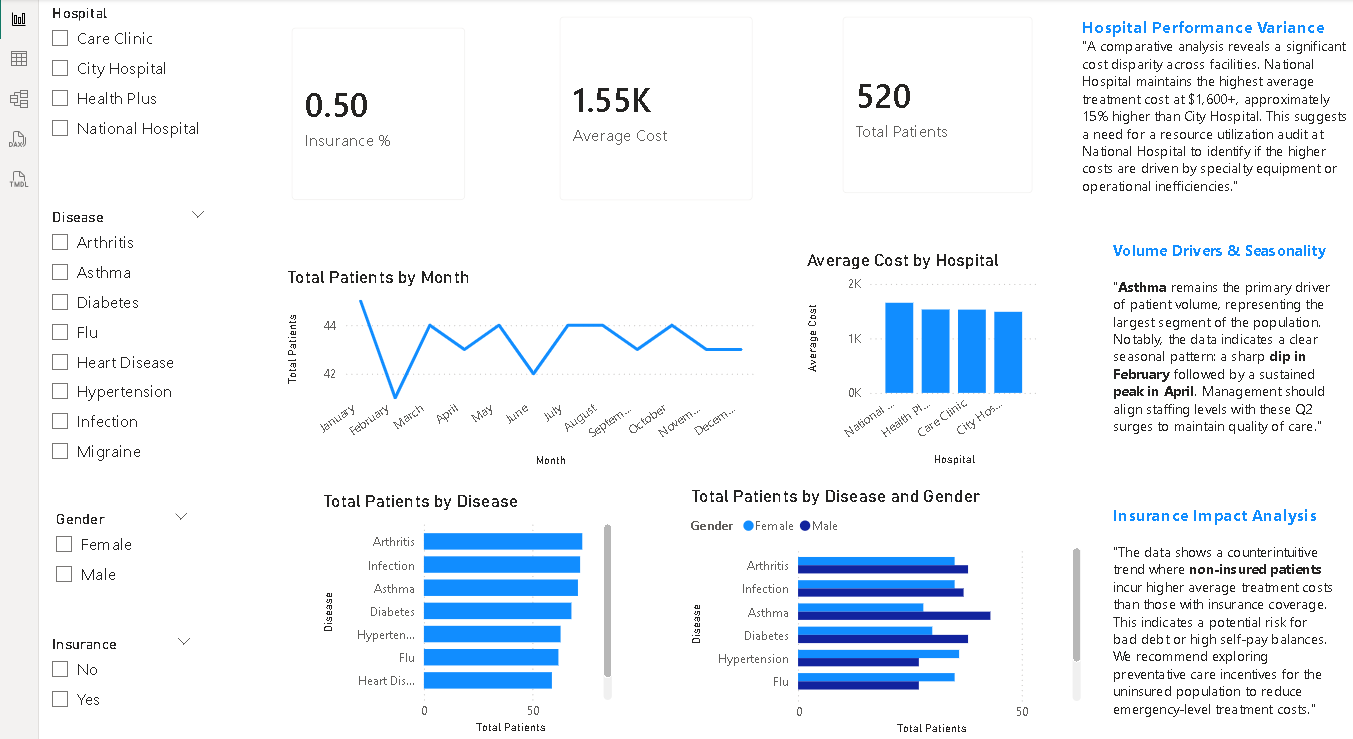

Layout of this report page (visuals, bound fields, positions):
{"tool":"powerbi","page":{"name":"Healthcare Dashboard","canvas":[1280,720],"ordinal":0},"visuals":[{"type":"cardVisual","fields":{"Data":["healthcare_data_520_rows.Insurance %"]},"box":[228.6,10.7,203.3,202.3],"z":0},{"type":"cardVisual","fields":{"Data":["healthcare_data_520_rows.Average Cost"]},"box":[489.2,0,222.7,213],"z":1000},{"type":"columnChart","fields":{"Category":["healthcare_data_520_rows.Hospital"],"Y":["healthcare_data_520_rows.Average Cost"]},"box":[742.1,244.1,234.4,214],"z":2000},{"type":"cardVisual","fields":{"Data":["healthcare_data_520_rows.Total Patients"]},"box":[764.5,0,219.8,206.2],"z":3000},{"type":"lineChart","fields":{"Category":["healthcare_data_520_rows.Visit_Date.Variation.Date Hierarchy.Month"],"Y":["healthcare_data_520_rows.Total Patients"]},"box":[236.4,260.7,464.9,198.4],"z":4000},{"type":"barChart","fields":{"Category":["healthcare_data_520_rows.Disease"],"Y":["healthcare_data_520_rows.Total Patients"]},"box":[271.4,478.5,290.8,240.2],"z":5000},{"type":"clusteredBarChart","fields":{"Category":["healthcare_data_520_rows.Disease"],"Series":["healthcare_data_520_rows.Gender"],"Y":["healthcare_data_520_rows.Total Patients"]},"box":[629.3,473.7,389.1,246.1],"z":6000},{"type":"slicer","fields":{"Values":["healthcare_data_520_rows.Hospital"]},"box":[0,0,174.1,153.7],"z":7000},{"type":"slicer","fields":{"Values":["healthcare_data_520_rows.Disease"]},"box":[0,198.4,174.1,259.7],"z":8000},{"type":"slicer","fields":{"Values":["healthcare_data_520_rows.Gender"]},"box":[3.9,492.2,153.7,93.4],"z":9000},{"type":"slicer","fields":{"Values":["healthcare_data_520_rows.Insurance"]},"box":[0,613.7,160.5,105],"z":10000},{"type":"textbox","box":[1009.6,10.7,270.4,202.3],"z":11000},{"type":"textbox","box":[1039.8,228.6,225.7,229.5],"z":12000},{"type":"textbox","box":[1039.8,485.3,225.7,234.4],"z":13000}]}

Visuals, with their boxes on the page's 1280x720 design canvas (x1, y1, x2, y2). These are canvas units, not pixel positions in the 1353x739 screenshot, which may show the page scaled, cropped or inside an application window:
cardVisual - healthcare_data_520_rows.Insurance %: 229,11,432,213
cardVisual - healthcare_data_520_rows.Average Cost: 489,0,712,213
columnChart - healthcare_data_520_rows.Hospital x healthcare_data_520_rows.Average Cost: 742,244,976,458
cardVisual - healthcare_data_520_rows.Total Patients: 764,0,984,206
lineChart - healthcare_data_520_rows.Visit_Date.Variation.Date Hierarchy.Month x healthcare_data_520_rows.Total Patients: 236,261,701,459
barChart - healthcare_data_520_rows.Disease x healthcare_data_520_rows.Total Patients: 271,478,562,719
clusteredBarChart - healthcare_data_520_rows.Disease x healthcare_data_520_rows.Gender: 629,474,1018,720
slicer - healthcare_data_520_rows.Hospital: 0,0,174,154
slicer - healthcare_data_520_rows.Disease: 0,198,174,458
slicer - healthcare_data_520_rows.Gender: 4,492,158,586
slicer - healthcare_data_520_rows.Insurance: 0,614,160,719
textbox: 1010,11,1280,213
textbox: 1040,229,1266,458
textbox: 1040,485,1266,720
